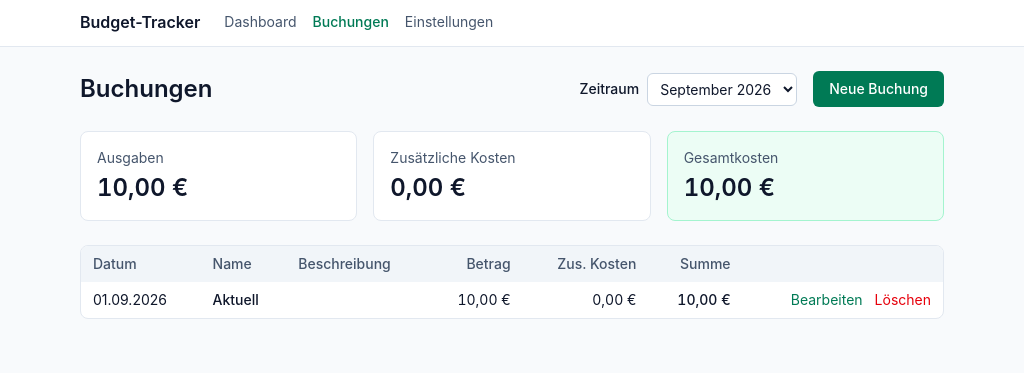
booking flow › filters bookings and KPIs by month
Expected: the text "Aktuell" is shown, top-left (201, 282), bottom-right (286, 318)
Expected: the text "Alt" is not shown
Select "Alle" in the dropdown labelled "Zeitraum": (722, 89) top-left (647, 72), bottom-right (797, 106)
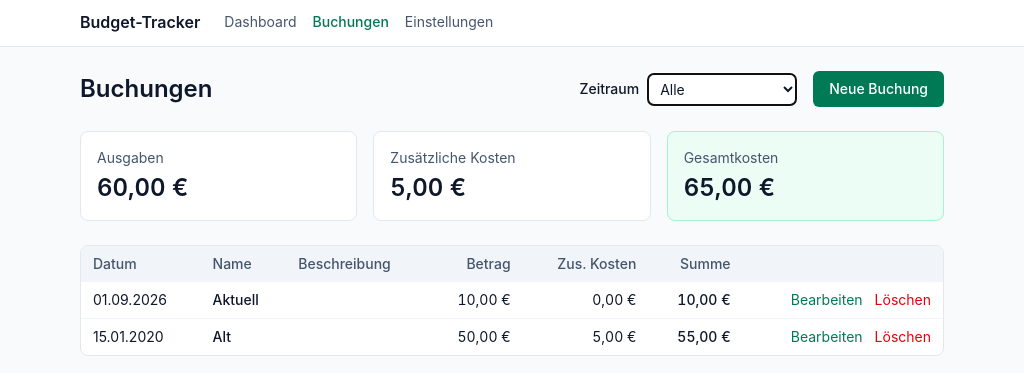
Result: the text "Alt" is shown at top-left (201, 318), bottom-right (286, 355)
